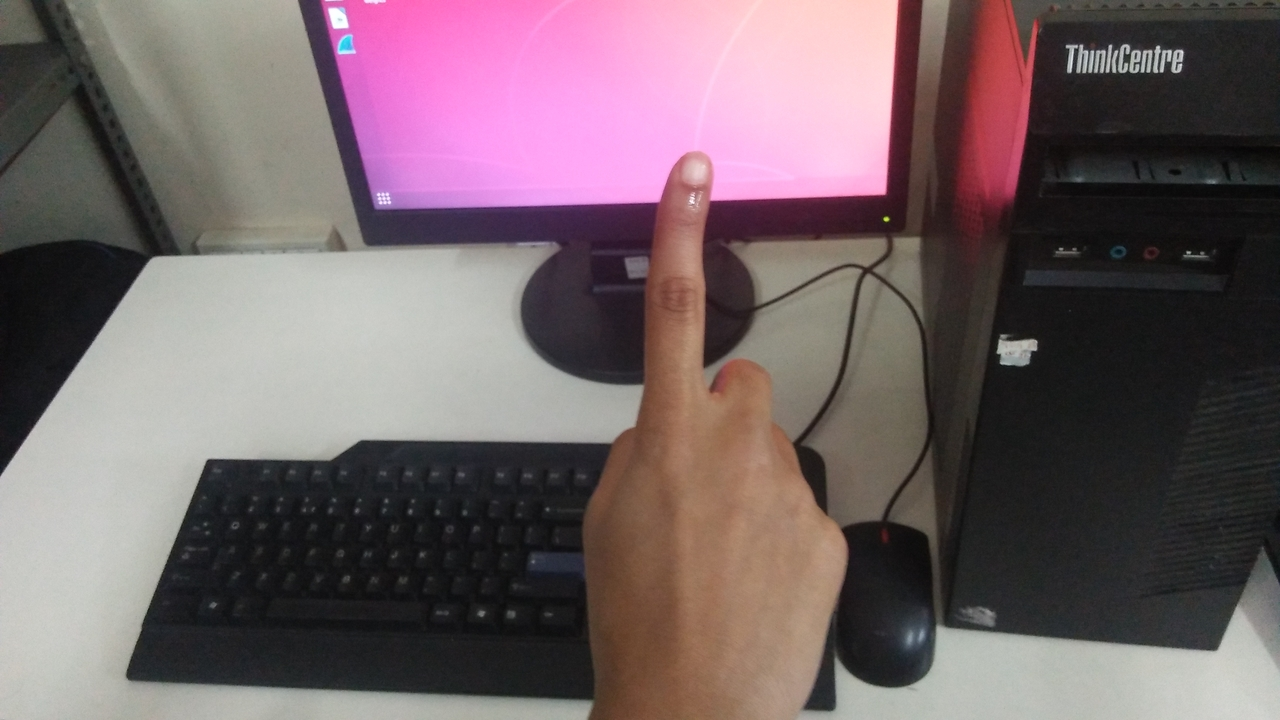fingertip: (664, 146, 718, 198)
